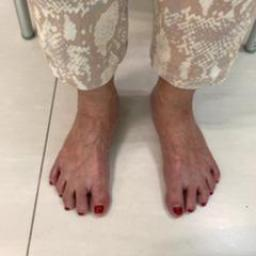Dorsal View -Both Feet-: (26, 52, 246, 240)
